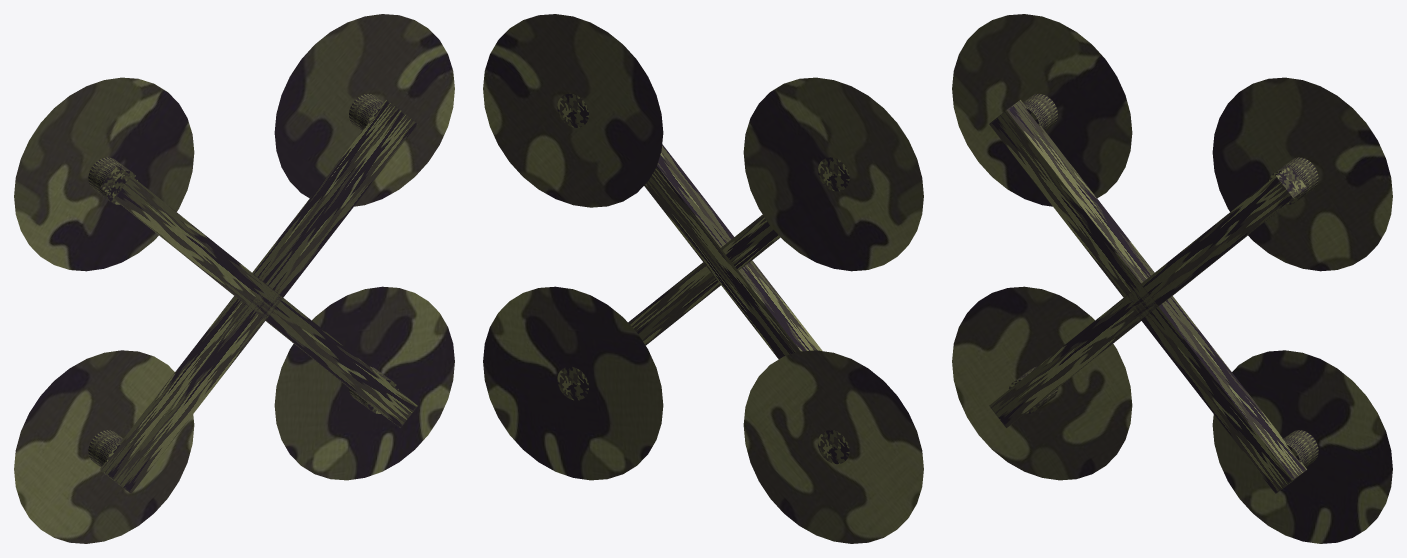
File: quadcopter.obj
3 renders of one model, left to right at view 1: azimuth 30°, elevation 25°; view 2: azimuth 150°, elevation 25°; view 3: azimuth 330°, elevation 25°, orthographic.
Visible parts, largest first — view 1: Cylinder; view 2: Cylinder; view 3: Cylinder.
Part boxes in pixels (x1,y1,x2,y2): Cylinder: [14, 14, 454, 543]; Cylinder: [483, 14, 923, 543]; Cylinder: [952, 14, 1392, 543].
Bounding box in the file's own units: 8.37 × 8.37 × 1.04.
1 material, 1 textured.
